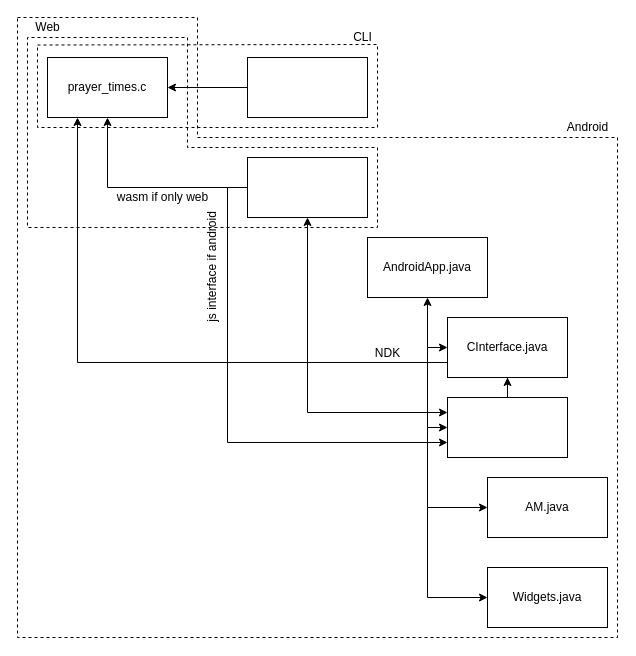
Some shapes in this 636 by 656 pixel diagram are drawn without their labels. Here are the shapes that lost their labels. From the top down, the centre of each, then its label:
At (x=307, y=87): "cli.c".
At (x=307, y=187): "web_ui.js".
At (x=507, y=427): "JsInterface.java".
